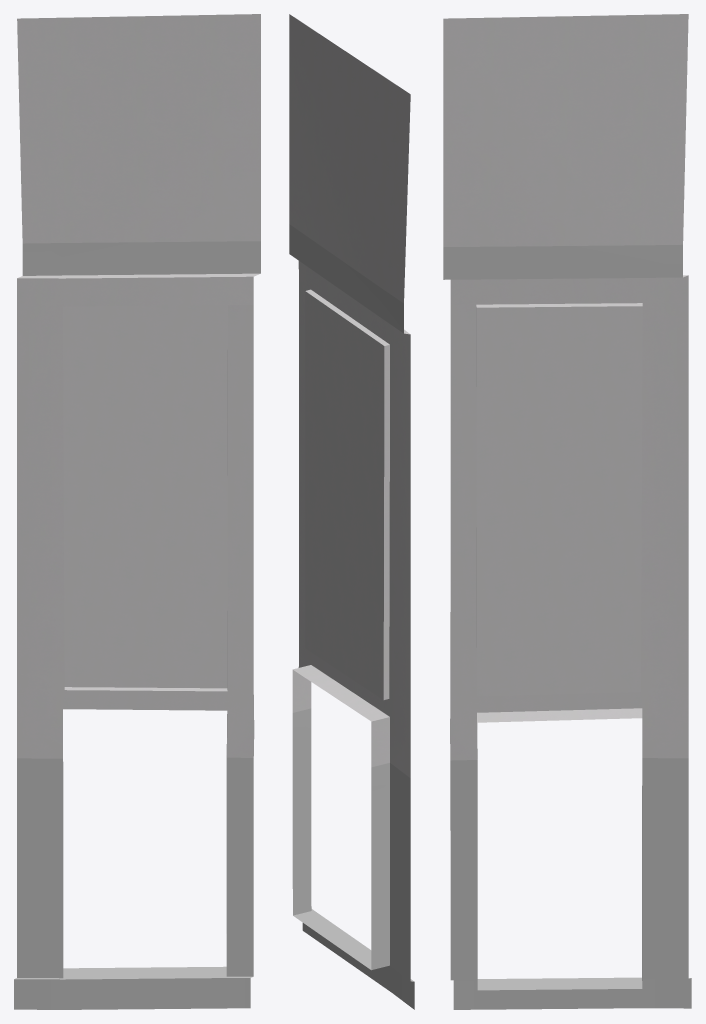
The model's file is SM_Wall_Tiled_47.fbx.
3 views of the same model, side by side, from view 1: azimuth 90°, elevation 25°; view 2: azimuth 210°, elevation 25°; view 3: azimuth 270°, elevation 25° (orthographic). The views are drawn at different scales.
Parts seen in each view (by area): view 1: SM_Wall_Tiled_47; view 2: SM_Wall_Tiled_47; view 3: SM_Wall_Tiled_47.
Part boxes in pixels (box(x1,y1,x2,y2)): SM_Wall_Tiled_47: box(14, 14, 260, 1009); SM_Wall_Tiled_47: box(289, 14, 414, 1009); SM_Wall_Tiled_47: box(443, 14, 691, 1009).
Bounding box in the file's own units: 21.04 × 172 × 763.
